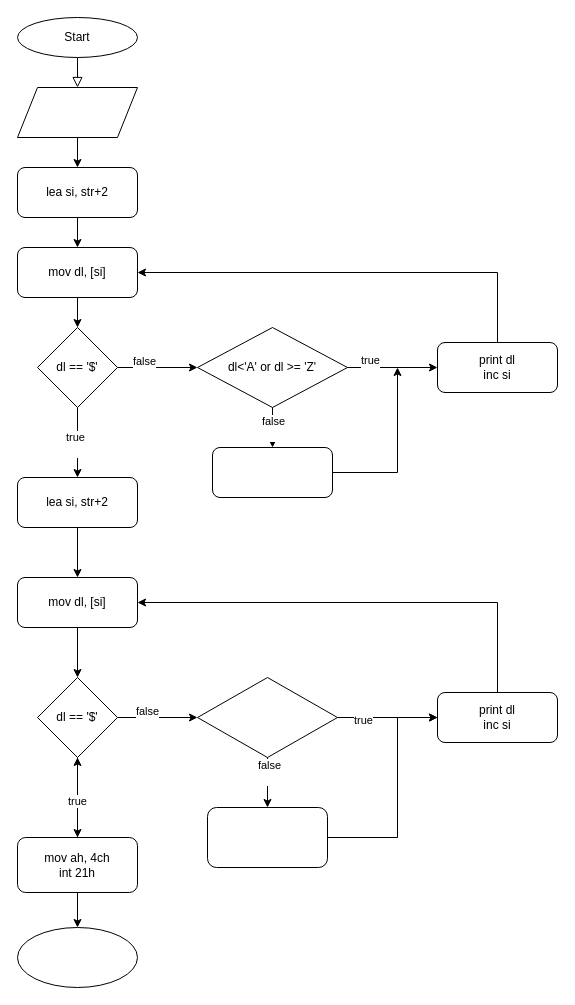
Image size: 575x1005. Some labels were removed from this diagram. Here are the shapes that lost their labels. From the top down, the centre of each, then its label:
At (77,112): "enter str".
At (272,472): "add dl, 32".
At (267,717): "dl<'a' or dl > 'z'".
At (267,837): "sub dl, 32".
At (77,957): "end".
